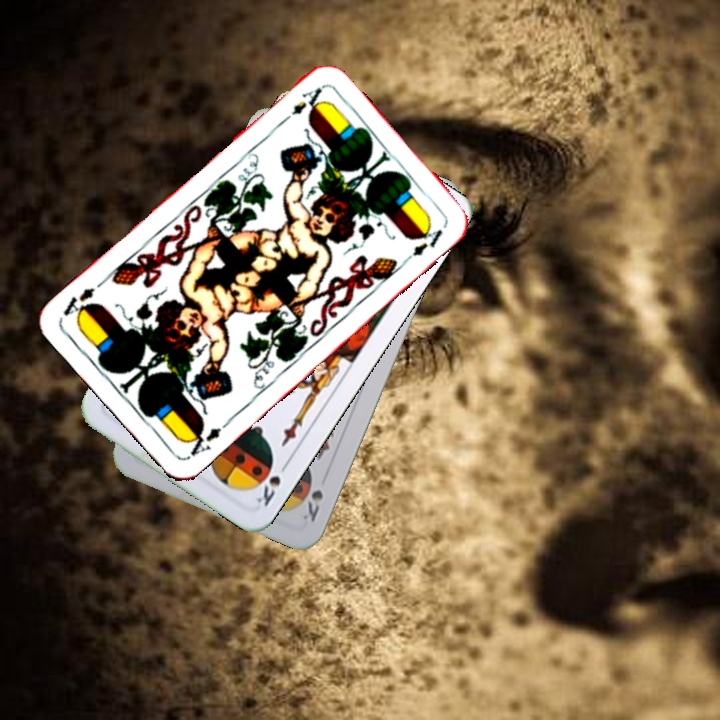EA: (180, 415, 233, 460), (287, 83, 325, 118)
SK: (251, 457, 292, 509), (298, 485, 326, 525)
